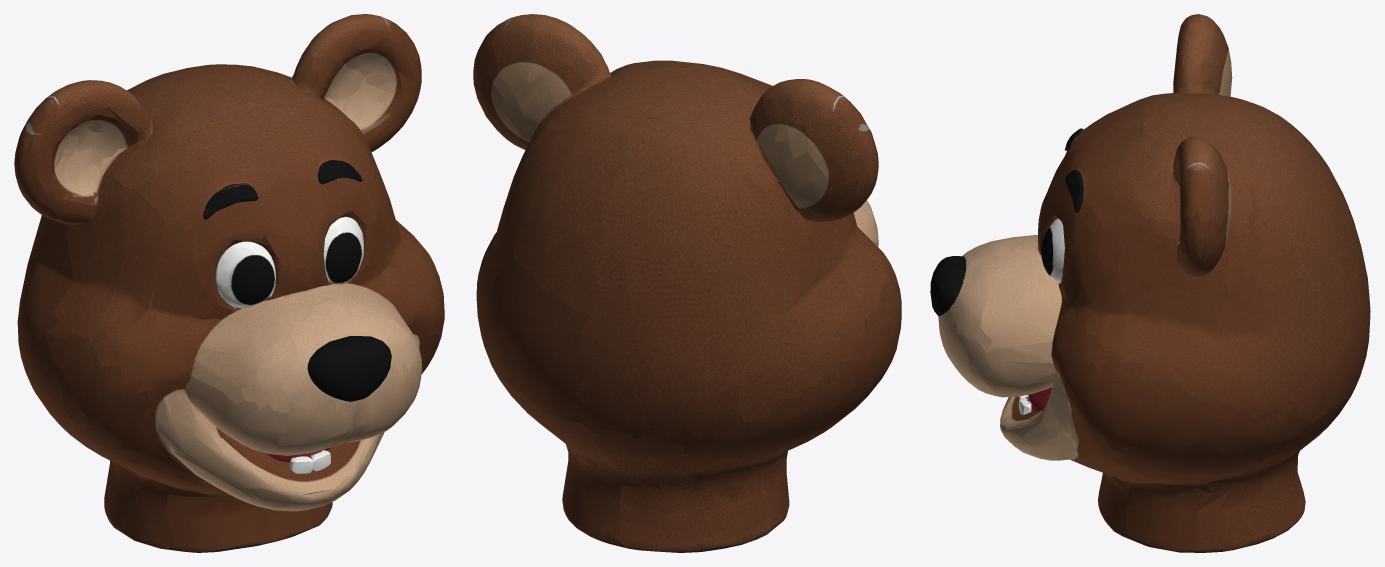
File: mascot_head_bear.glb
3 views of the same model, side by side, from view 1: azimuth 30°, elevation 25°; view 2: azimuth 150°, elevation 25°; view 3: azimuth 270°, elevation 25° (orthographic). The views are drawn at different scales.
Bounding box in the file's own units: 1.73 × 1.9 × 1.76.
1 material, 1 textured.
